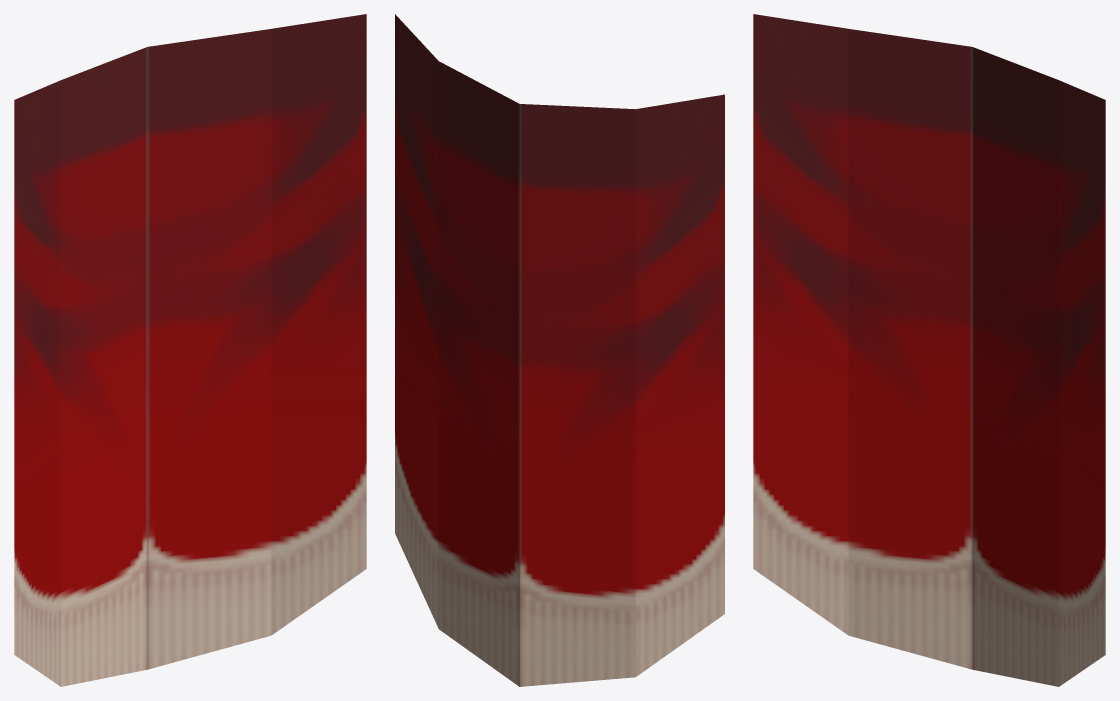
File: KingKnightCape.fbx
3 renders of one model, left to right at view 1: azimuth 30°, elevation 25°; view 2: azimuth 150°, elevation 25°; view 3: azimuth 330°, elevation 25°, orthographic. The views are drawn at different scales.
Visible parts, largest first — view 1: Cape; view 2: Cape; view 3: Cape.
Boxes of the visible parts, bbox=[...] form: Cape: bbox=[14, 14, 366, 686]; Cape: bbox=[395, 14, 724, 686]; Cape: bbox=[753, 14, 1105, 686].
Bounding box in the file's own units: 2.1 × 3.66 × 0.4442.
